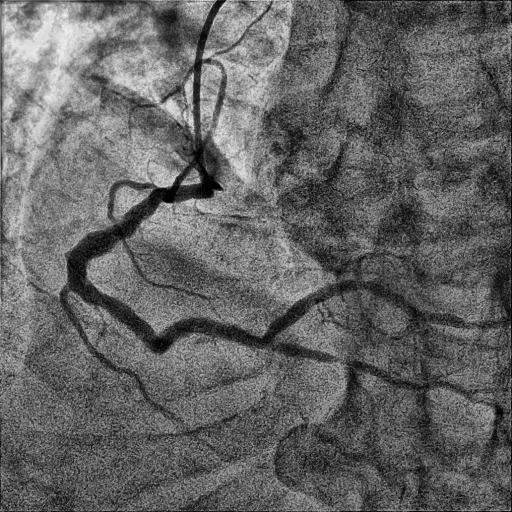pborca: (264, 279, 467, 343)
pda: (268, 343, 503, 426)
rca: (67, 182, 272, 354)
